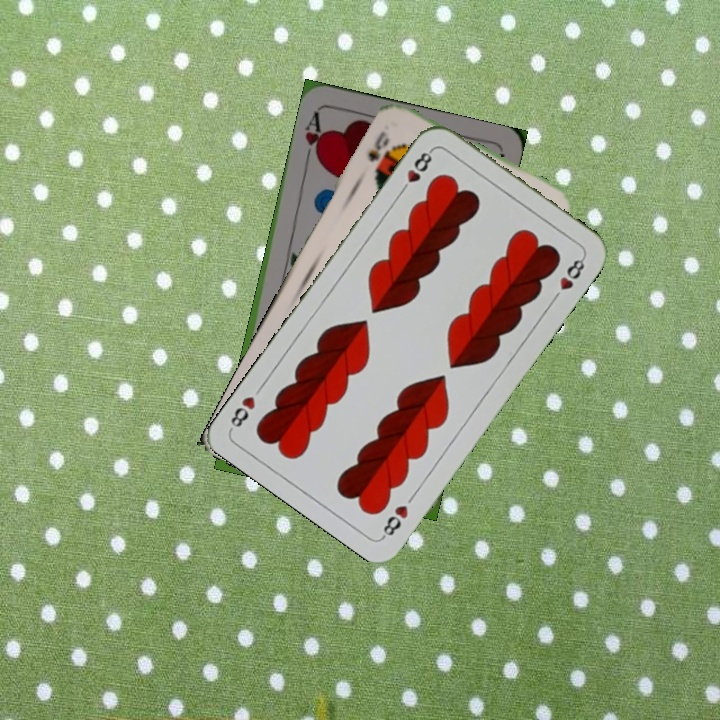H8: (396, 145, 436, 197), (378, 501, 411, 541)
HA: (300, 107, 328, 166)
SO: (363, 126, 392, 174)
